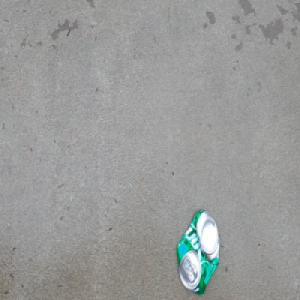SodaCan: (175, 208, 222, 297)
